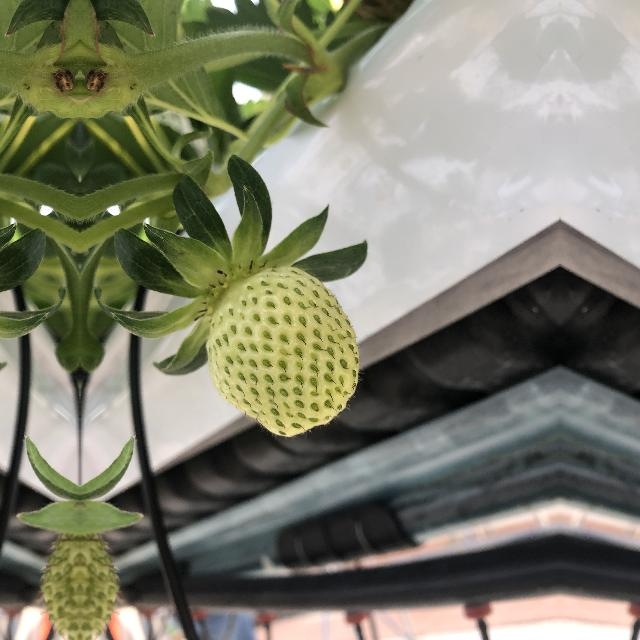Health_25: (208, 261, 360, 444)
